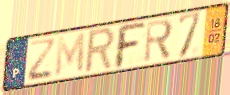7: (177, 10, 204, 61)
F: (115, 21, 147, 71)
M: (54, 30, 87, 79)
R: (82, 25, 117, 76), (142, 17, 175, 65)
Z: (26, 38, 57, 84)
